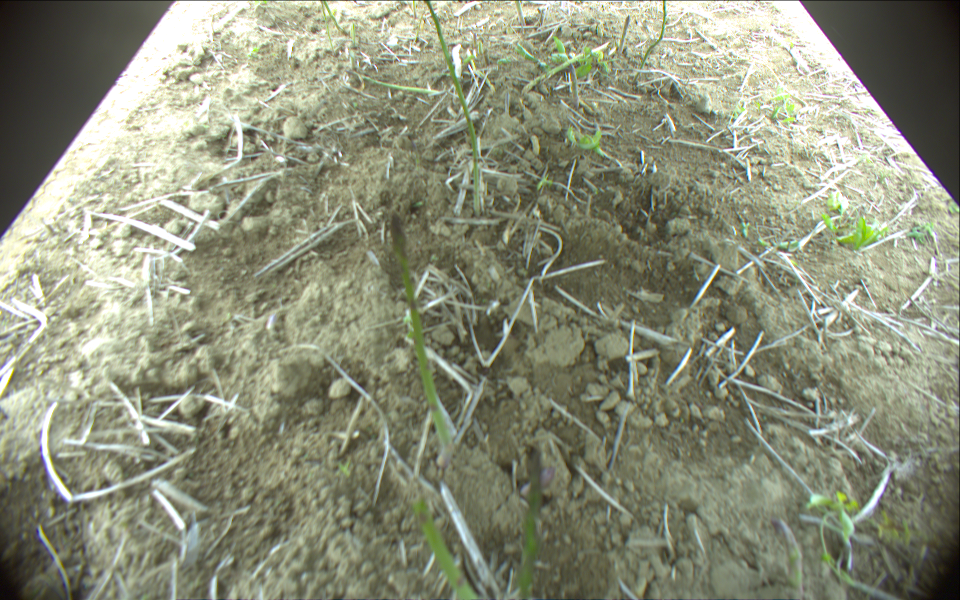aspa: (389, 209, 455, 458), (420, 1, 484, 216), (413, 498, 479, 600), (520, 44, 612, 95), (514, 444, 543, 600), (348, 67, 441, 94), (641, 1, 666, 69), (316, 1, 339, 50), (324, 1, 343, 30), (620, 12, 632, 52), (569, 63, 579, 105), (515, 1, 529, 30)
